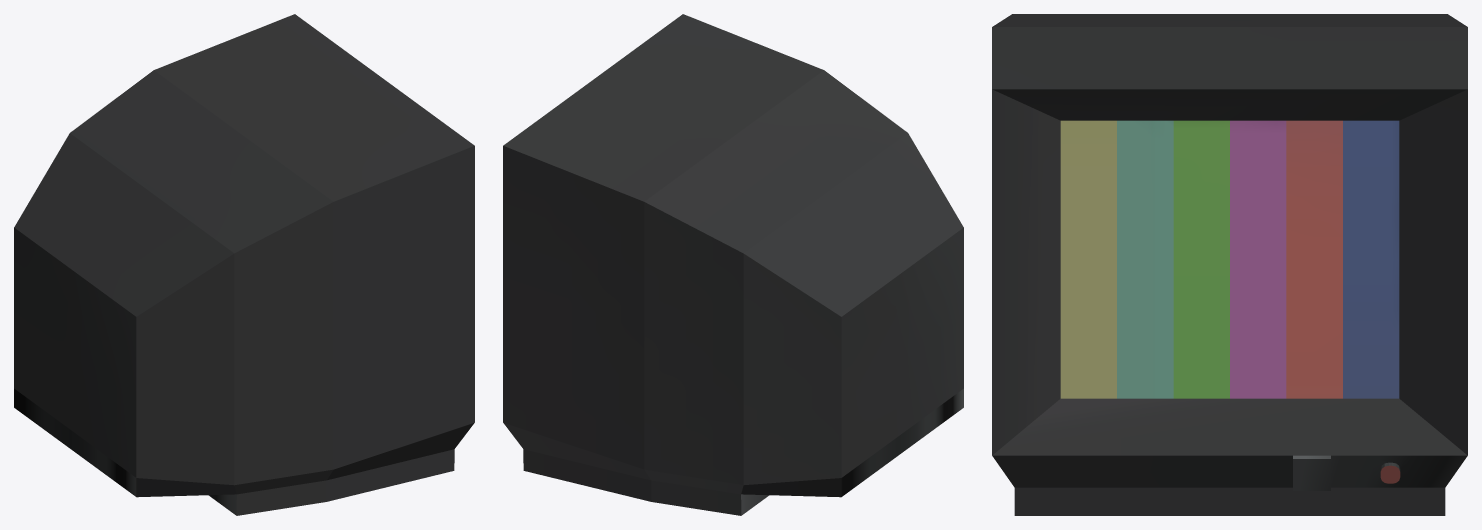
Rendered from CTR TV.fbx.
3 views of the same model, side by side, from view 1: azimuth 30°, elevation 25°; view 2: azimuth 150°, elevation 25°; view 3: azimuth 270°, elevation 25° (orthographic). The views are drawn at different scales.
Parts seen in each view (by area): view 1: Cube; view 2: Cube; view 3: Cube.
Boxes of the visible parts, x1=… form: Cube: x1=14, y1=14, x2=474, y2=515; Cube: x1=503, y1=14, x2=963, y2=515; Cube: x1=992, y1=14, x2=1467, y2=515.
Size of the model in its own units: 221 by 220 by 219.
Materials: 1 (1 with a texture image).
